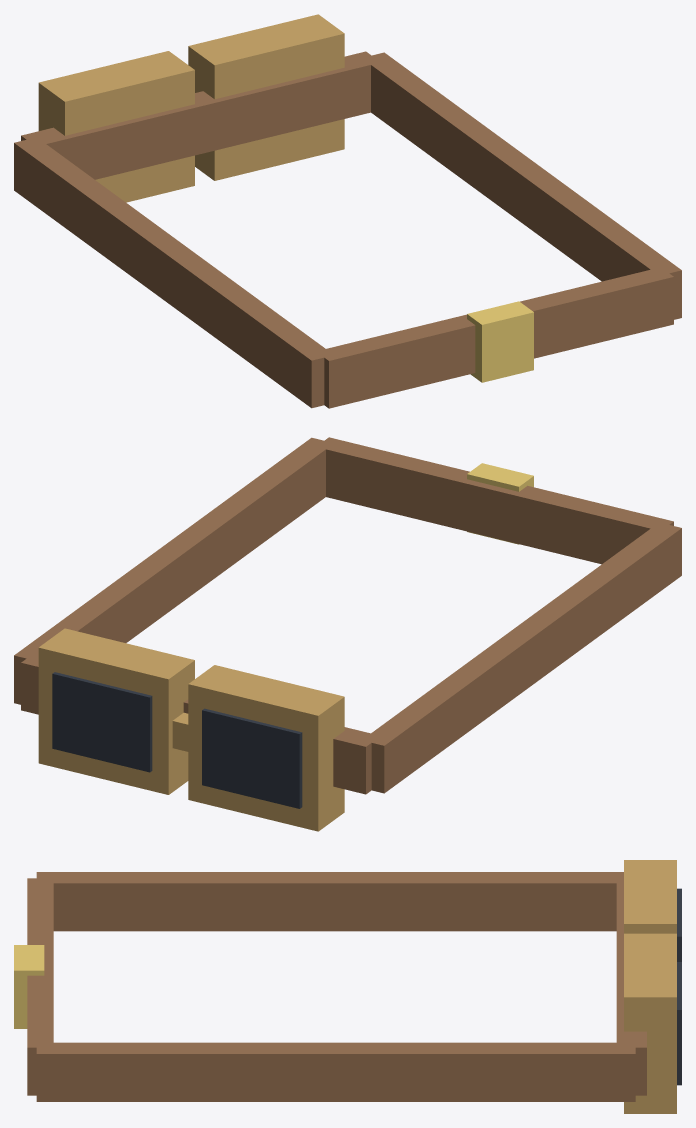
Rendered from oculos_aviador_testa.glb.
3 views of the same model, one above another, from view 1: azimuth 30°, elevation 25°; view 2: azimuth 150°, elevation 25°; view 3: azimuth 270°, elevation 25° (orthographic).
Parts seen in each view (by area): view 1: oculos_aviador_testa; view 2: oculos_aviador_testa; view 3: oculos_aviador_testa.
Boxes of the visible parts, x1,y1,x2,y2 form: oculos_aviador_testa: (14,14,681,408); oculos_aviador_testa: (14,437,681,831); oculos_aviador_testa: (14,860,681,1113).
Size of the model in its own units: 0.569 by 0.17 by 0.8835.
